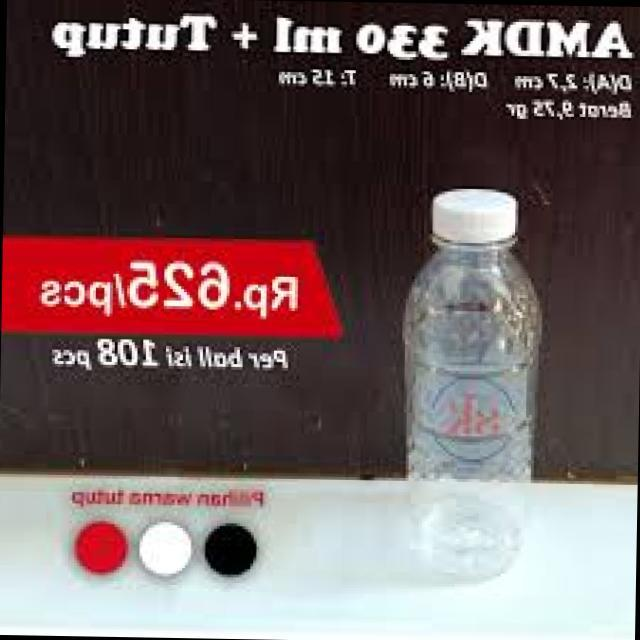good: (388, 188, 557, 586)
